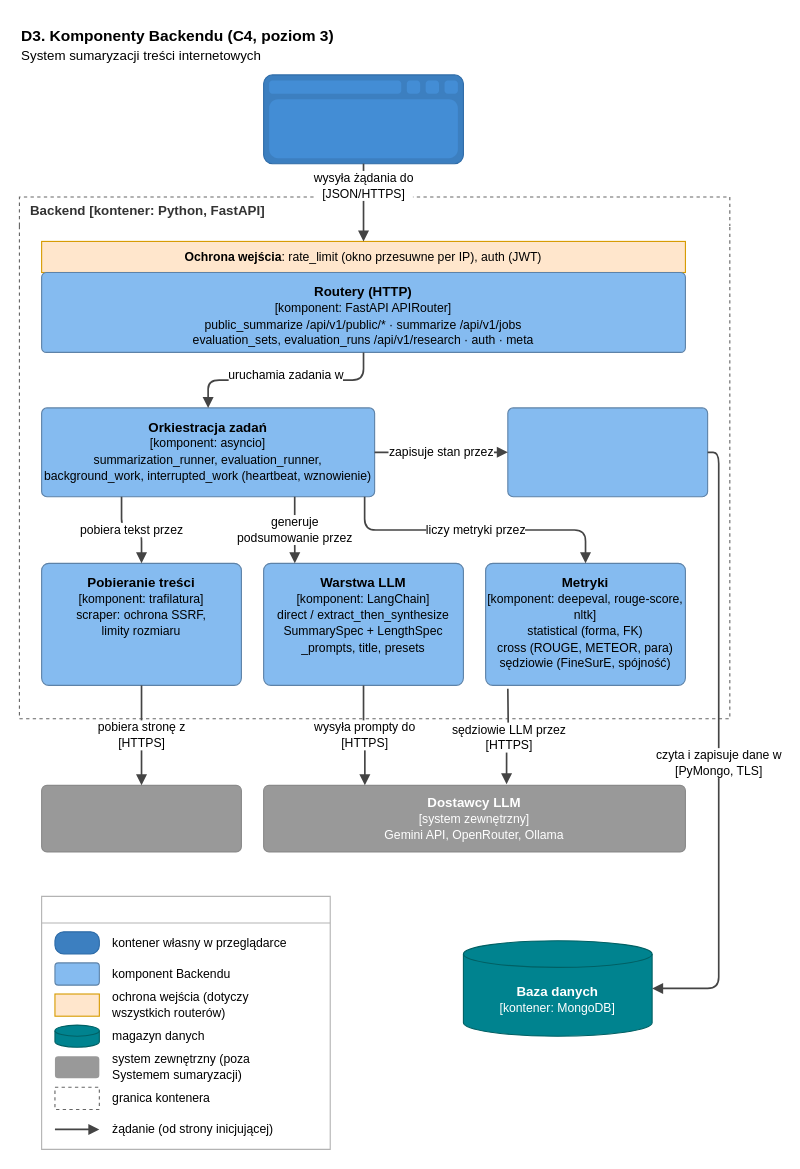
Some shapes in this 800 by 1169 pixel diagram are drawn without their labels. Here are the shapes that lost their labels. From the top down, the box of each, then its label:
(263, 74, 463, 164): Frontend (SPA) [kontener: React]
(507, 407, 708, 497): Dostęp do danych [komponent: PyMongo Async] core/mongo
(41, 784, 241, 852): Strony WWW [system zewnętrzny]
(41, 895, 330, 1149): Legenda
